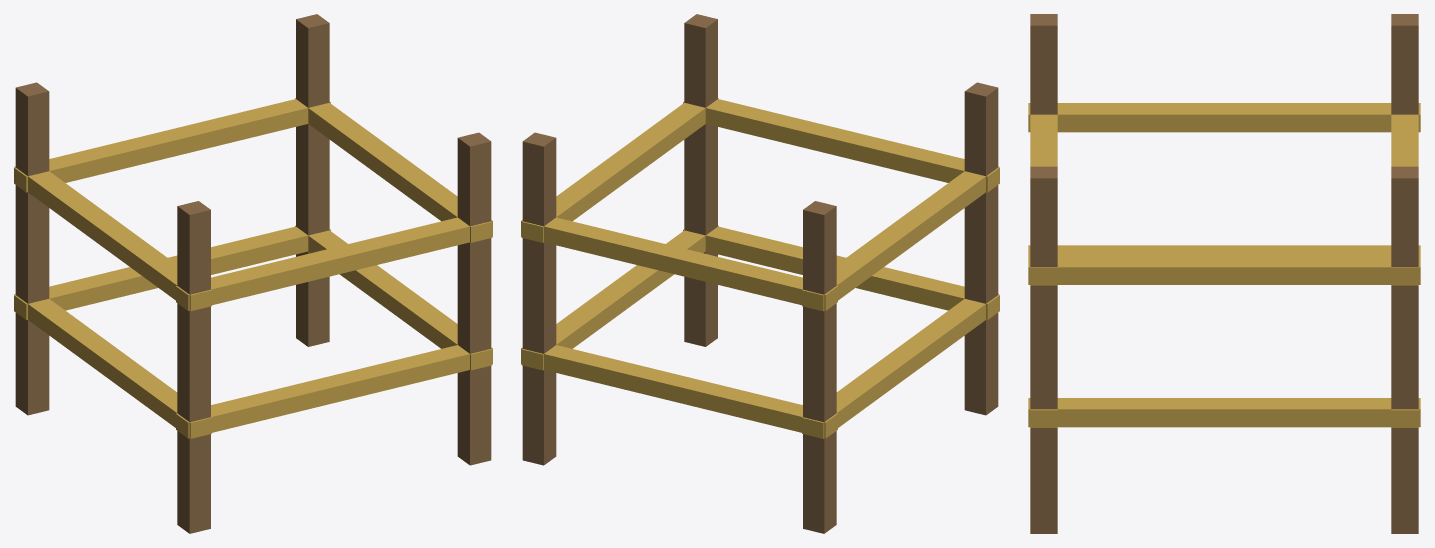
The model's file is construction_scaffold.glb.
The picture shows the model from 3 angles, left to right: view 1: azimuth 30°, elevation 25°; view 2: azimuth 150°, elevation 25°; view 3: azimuth 270°, elevation 25°; orthographic projection. The views are drawn at different scales.
Size of the model in its own units: 1 by 1 by 1.
